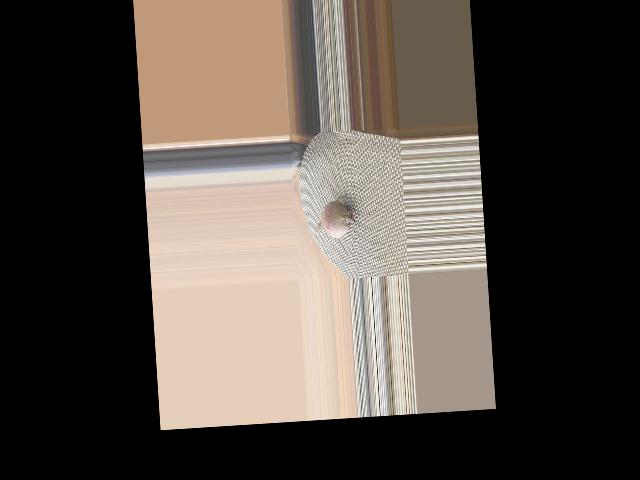beet: (308, 194, 357, 245)
